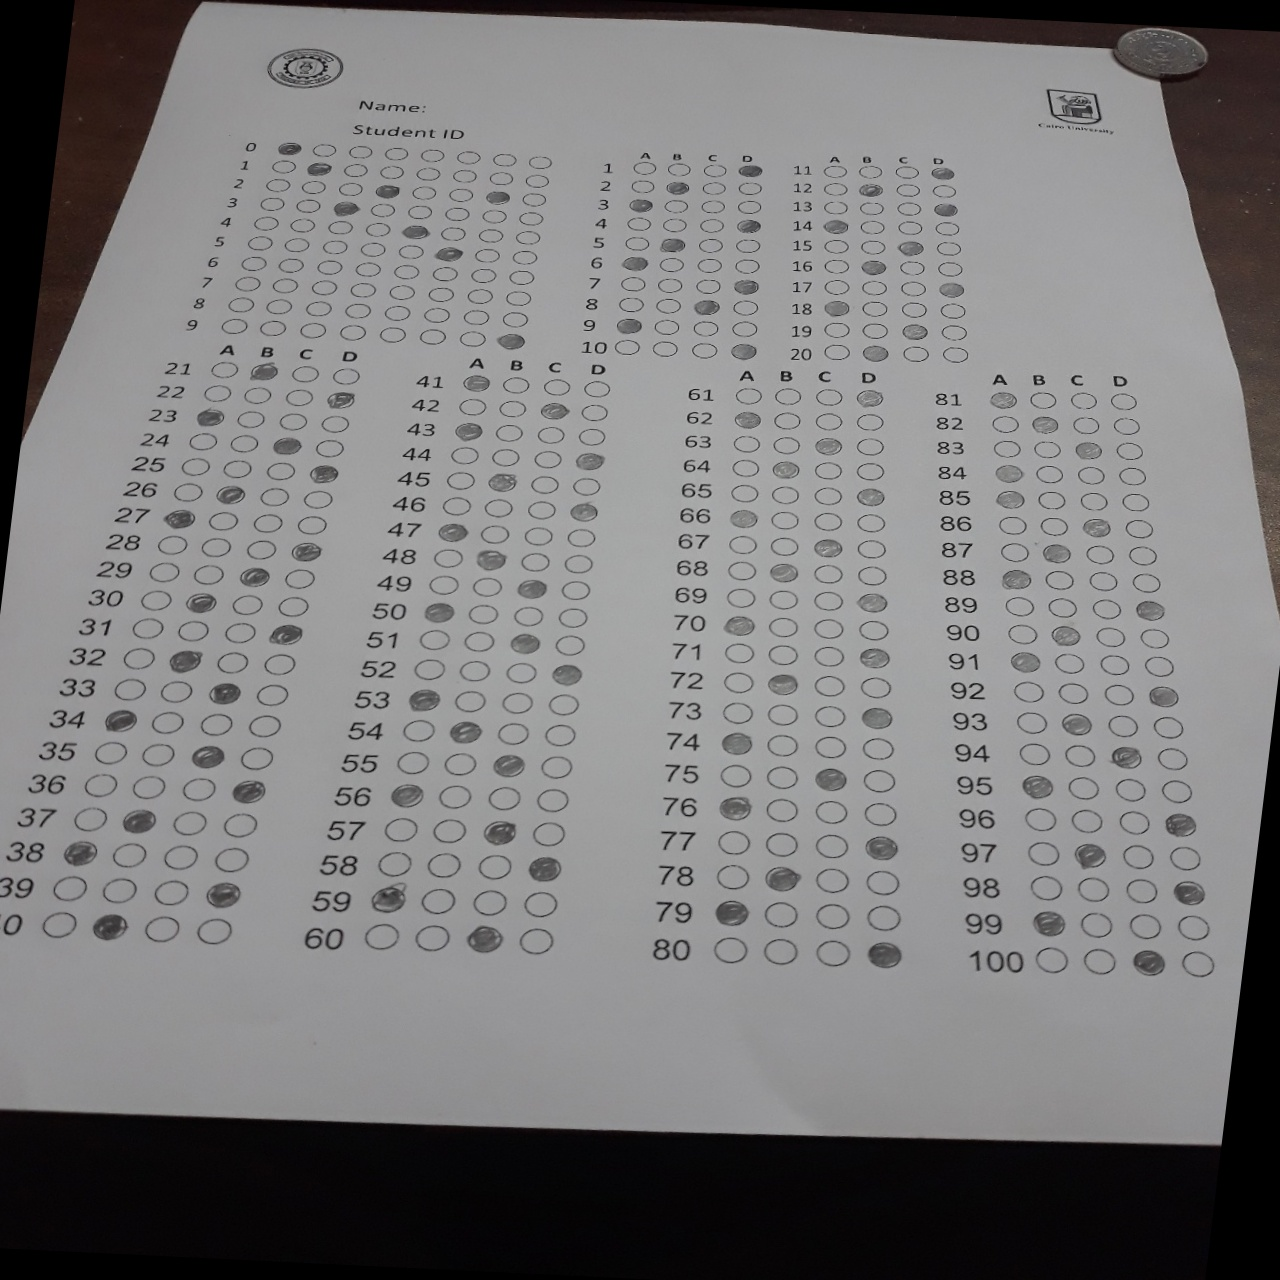not-c: (151, 876, 192, 908), (475, 849, 516, 881), (129, 769, 170, 801), (79, 768, 120, 799), (72, 803, 113, 835), (195, 912, 236, 944), (424, 847, 465, 879), (382, 813, 423, 845), (375, 847, 416, 879), (1096, 675, 1138, 706), (110, 840, 150, 872), (52, 871, 91, 903), (418, 885, 458, 917), (515, 925, 554, 956), (486, 781, 526, 812), (436, 779, 476, 811), (98, 874, 139, 905), (139, 912, 181, 942), (361, 920, 402, 951), (42, 907, 83, 938), (410, 922, 451, 953), (469, 886, 510, 917), (430, 812, 470, 843), (519, 888, 559, 919), (529, 817, 568, 847), (533, 784, 573, 813), (1024, 874, 1065, 903), (1021, 806, 1062, 835), (712, 862, 750, 891), (813, 937, 852, 966), (1121, 877, 1160, 905), (1067, 806, 1107, 835), (1064, 772, 1104, 801), (1060, 742, 1099, 770), (1014, 741, 1054, 769), (1094, 649, 1133, 678), (760, 937, 799, 965), (1114, 810, 1155, 837), (1085, 594, 1126, 621), (713, 933, 750, 962), (1175, 913, 1213, 941), (1179, 949, 1218, 978), (1030, 946, 1069, 974), (813, 901, 852, 930), (1121, 911, 1160, 938), (1080, 947, 1119, 974), (1073, 877, 1112, 904), (1019, 840, 1058, 867), (1101, 712, 1141, 738), (1010, 708, 1050, 735), (1005, 676, 1044, 703), (1048, 647, 1088, 674), (1041, 593, 1081, 620), (1000, 620, 1040, 647), (999, 591, 1039, 618), (1034, 512, 1074, 539), (1071, 461, 1111, 488), (1032, 458, 1071, 485), (1039, 565, 1080, 591), (762, 900, 799, 928), (865, 903, 903, 931), (1076, 913, 1115, 940), (1117, 842, 1156, 869), (1051, 679, 1090, 706), (1030, 485, 1069, 512), (1064, 411, 1103, 438), (863, 869, 901, 896), (996, 537, 1036, 563), (992, 510, 1032, 536), (1074, 486, 1114, 512), (1063, 386, 1103, 411), (441, 750, 478, 777), (399, 716, 436, 743), (456, 655, 493, 682), (1110, 774, 1149, 799), (509, 602, 547, 628), (250, 681, 290, 706), (542, 723, 578, 750), (546, 692, 583, 719), (499, 687, 536, 714), (416, 625, 452, 652), (554, 602, 591, 629), (245, 712, 282, 737), (537, 753, 574, 778), (493, 719, 531, 744), (463, 627, 501, 653), (230, 591, 268, 615), (175, 618, 213, 642), (181, 775, 219, 799), (169, 810, 207, 835), (211, 846, 250, 871), (162, 843, 200, 867), (516, 549, 554, 573), (530, 421, 568, 445), (396, 749, 433, 775), (410, 654, 447, 680), (552, 629, 588, 655), (1078, 542, 1118, 565), (520, 497, 560, 520), (488, 418, 527, 442), (136, 587, 173, 612), (220, 619, 258, 644), (120, 646, 157, 670), (157, 678, 195, 702), (91, 741, 129, 765), (504, 660, 542, 685), (1080, 567, 1121, 590), (1118, 516, 1153, 542), (274, 594, 313, 618), (261, 652, 300, 675), (220, 813, 259, 837), (468, 574, 506, 598), (474, 520, 512, 544), (428, 545, 467, 568), (478, 495, 517, 518), (447, 444, 485, 468), (488, 445, 526, 469), (526, 445, 565, 469), (571, 423, 610, 447), (765, 615, 801, 641), (810, 614, 845, 640), (810, 642, 845, 668), (812, 672, 847, 697), (855, 672, 890, 697), (812, 703, 847, 729), (813, 733, 849, 758), (860, 765, 896, 791), (1026, 386, 1062, 410), (145, 558, 182, 583), (450, 688, 486, 713), (559, 551, 595, 576), (720, 700, 756, 724), (721, 670, 757, 695), (762, 730, 798, 755), (864, 801, 900, 825), (213, 649, 251, 673), (111, 678, 149, 701), (138, 742, 176, 765), (147, 709, 184, 733), (200, 712, 238, 735), (237, 745, 274, 769), (425, 571, 463, 594), (556, 578, 593, 601), (443, 469, 481, 492), (1107, 387, 1142, 411), (1124, 544, 1159, 568), (1125, 570, 1160, 594), (1136, 624, 1171, 648), (1142, 653, 1177, 678), (1155, 745, 1190, 770), (1170, 845, 1205, 870), (1089, 625, 1130, 646), (764, 701, 799, 726), (859, 735, 894, 760), (764, 796, 799, 821), (812, 799, 847, 824), (816, 832, 851, 857), (716, 829, 751, 853), (813, 865, 849, 890), (525, 471, 564, 493), (1029, 436, 1065, 459), (987, 411, 1023, 435), (990, 437, 1027, 461), (519, 524, 556, 547), (855, 617, 891, 640), (1107, 414, 1141, 438), (1114, 465, 1148, 490), (1116, 490, 1150, 515), (1150, 714, 1184, 738), (127, 617, 164, 639), (465, 601, 503, 624), (563, 527, 600, 550), (565, 474, 602, 496), (1159, 778, 1194, 802), (764, 764, 799, 788), (719, 763, 754, 787), (764, 832, 799, 856), (1111, 440, 1145, 463), (186, 430, 220, 454), (437, 493, 475, 515), (205, 511, 241, 532), (810, 590, 846, 611), (179, 455, 215, 476), (219, 458, 254, 479), (263, 459, 298, 481), (199, 536, 234, 557), (810, 561, 845, 583), (767, 508, 802, 529), (300, 488, 336, 508), (294, 515, 331, 535), (248, 512, 285, 532), (279, 567, 315, 587), (810, 386, 846, 406), (852, 411, 888, 431), (808, 459, 844, 479), (767, 434, 803, 454), (241, 539, 275, 560), (319, 413, 350, 435), (278, 409, 309, 431), (282, 384, 314, 407), (244, 384, 275, 407), (233, 406, 265, 428), (172, 481, 207, 501), (256, 486, 291, 506), (156, 535, 191, 554), (190, 563, 225, 583), (495, 399, 530, 418), (537, 377, 572, 397), (580, 379, 615, 399), (771, 386, 806, 406), (853, 461, 888, 481), (724, 482, 760, 502), (809, 511, 844, 531), (765, 588, 801, 608), (724, 588, 760, 608), (724, 533, 760, 553), (719, 644, 754, 663), (767, 646, 802, 666), (579, 402, 615, 421), (811, 410, 847, 429), (727, 457, 763, 476), (204, 381, 234, 403), (731, 384, 765, 404), (765, 484, 799, 504), (724, 560, 758, 580), (765, 535, 799, 554), (329, 365, 361, 386), (313, 437, 345, 458), (229, 433, 260, 454), (457, 396, 492, 415), (852, 436, 887, 455), (727, 434, 762, 452), (767, 410, 802, 429), (810, 486, 845, 505), (853, 538, 888, 557), (856, 565, 891, 584), (350, 258, 383, 278), (287, 365, 320, 384), (497, 375, 531, 394), (855, 513, 888, 532), (342, 301, 374, 321), (821, 278, 853, 297), (658, 215, 690, 233), (386, 282, 418, 301), (363, 217, 394, 237), (897, 257, 928, 275), (818, 159, 850, 178), (857, 237, 888, 256), (822, 342, 853, 361), (694, 275, 726, 294), (653, 275, 685, 294), (425, 284, 457, 302), (403, 202, 435, 220), (376, 325, 408, 343), (347, 279, 379, 298), (358, 238, 389, 257), (258, 318, 290, 336), (731, 236, 764, 253), (508, 247, 540, 265), (819, 237, 850, 256), (858, 277, 888, 295), (735, 196, 765, 215), (697, 215, 728, 233), (692, 318, 722, 336), (649, 338, 680, 356), (484, 168, 515, 186), (338, 322, 368, 341), (926, 183, 958, 200), (891, 162, 922, 179), (855, 161, 886, 178), (898, 278, 930, 295), (856, 216, 887, 233), (862, 321, 893, 339), (728, 319, 760, 336), (728, 298, 760, 315), (733, 178, 764, 196), (696, 161, 728, 178), (652, 319, 683, 336), (660, 196, 692, 213), (626, 175, 658, 192), (612, 336, 644, 354), (515, 210, 546, 227), (512, 229, 544, 246), (519, 170, 551, 188), (420, 305, 451, 322), (440, 204, 471, 222), (394, 243, 425, 260), (380, 143, 411, 161), (343, 142, 375, 159), (338, 159, 369, 177), (319, 238, 350, 256), (307, 279, 339, 297), (302, 299, 334, 316), (263, 297, 294, 314), (268, 275, 300, 293), (285, 216, 316, 233), (292, 196, 324, 213), (298, 177, 329, 195), (307, 141, 339, 158), (407, 184, 440, 200), (821, 179, 851, 197), (819, 197, 850, 215), (819, 256, 850, 273), (858, 299, 888, 316), (940, 324, 971, 341), (941, 343, 972, 361), (903, 343, 933, 361), (731, 257, 762, 274), (697, 197, 728, 215), (654, 295, 685, 313), (695, 234, 726, 252), (695, 256, 726, 273), (690, 340, 721, 358), (656, 254, 687, 272), (628, 158, 659, 176), (622, 215, 653, 232), (615, 293, 646, 311), (498, 309, 529, 327), (506, 267, 537, 285), (518, 190, 549, 207), (469, 265, 499, 282), (459, 307, 490, 325), (444, 184, 475, 202), (382, 302, 413, 320), (315, 258, 346, 275), (281, 234, 312, 252), (263, 176, 293, 193), (930, 220, 961, 237), (893, 199, 925, 216), (891, 181, 922, 197), (897, 301, 928, 318), (935, 301, 967, 318), (697, 179, 729, 196), (663, 159, 695, 176), (617, 275, 648, 292), (501, 290, 532, 306), (489, 150, 520, 166), (475, 226, 506, 243), (417, 327, 449, 343), (415, 147, 447, 163), (414, 164, 445, 181), (367, 200, 399, 217), (297, 321, 328, 338), (256, 195, 287, 211), (218, 316, 250, 333), (209, 361, 240, 377), (825, 320, 855, 338), (525, 152, 554, 170), (390, 263, 420, 280), (933, 239, 964, 256), (894, 219, 925, 236), (856, 198, 886, 215), (622, 234, 653, 251), (481, 207, 511, 224), (471, 246, 502, 263), (463, 287, 493, 304), (456, 331, 486, 347), (430, 266, 461, 282), (437, 225, 468, 241), (448, 166, 478, 183), (452, 147, 483, 163), (275, 256, 306, 272), (245, 233, 275, 250), (239, 254, 270, 271), (233, 275, 264, 292), (333, 181, 365, 196), (248, 215, 280, 230), (224, 297, 256, 312), (934, 259, 964, 275), (376, 163, 406, 179), (324, 219, 354, 234), (268, 159, 298, 175)
taken-c: (89, 911, 130, 942), (464, 922, 505, 953), (186, 740, 227, 770), (227, 774, 268, 804), (98, 704, 139, 735), (165, 645, 206, 675), (60, 836, 100, 866), (205, 678, 245, 708), (179, 587, 219, 618), (117, 805, 158, 835), (859, 832, 899, 862), (852, 585, 892, 614), (765, 557, 805, 586), (370, 884, 410, 913), (205, 879, 245, 908), (1171, 878, 1210, 907), (1130, 948, 1169, 978), (720, 610, 758, 639), (713, 794, 753, 822), (856, 703, 896, 731), (710, 899, 748, 928), (811, 763, 849, 792), (1029, 908, 1068, 937), (865, 941, 904, 969), (716, 728, 755, 756), (809, 532, 847, 560), (1070, 842, 1110, 869), (763, 863, 803, 890), (855, 644, 892, 672), (762, 670, 799, 697), (161, 505, 197, 532), (244, 358, 280, 384), (268, 620, 304, 647), (324, 384, 359, 411), (237, 563, 273, 588), (286, 537, 322, 563), (212, 481, 248, 506), (268, 433, 305, 458), (306, 461, 342, 486), (1078, 515, 1116, 539), (986, 463, 1024, 486), (1006, 652, 1044, 675), (1019, 775, 1057, 798), (1162, 812, 1200, 836), (526, 856, 561, 881), (1057, 712, 1094, 736), (389, 782, 425, 806), (1130, 598, 1167, 621), (987, 486, 1024, 510), (1037, 540, 1075, 564), (1107, 743, 1144, 767), (481, 821, 515, 846), (1065, 438, 1104, 461), (1047, 622, 1085, 645), (982, 384, 1019, 408), (1024, 410, 1062, 433), (996, 567, 1034, 590), (1145, 685, 1183, 707), (573, 449, 606, 474), (493, 753, 527, 776), (855, 484, 887, 508), (855, 386, 887, 409), (459, 372, 492, 395), (451, 418, 484, 442), (485, 470, 518, 493), (475, 547, 508, 571), (515, 576, 547, 599), (509, 633, 542, 656), (550, 661, 583, 685), (1049, 622, 1085, 644), (568, 499, 602, 522), (731, 408, 763, 431), (408, 686, 440, 709), (193, 406, 229, 427), (769, 458, 802, 481), (812, 435, 845, 457), (538, 399, 571, 421), (436, 520, 469, 543), (422, 600, 455, 622), (449, 719, 482, 741), (728, 508, 760, 530), (733, 159, 763, 179), (275, 139, 306, 158), (482, 188, 512, 206), (495, 331, 525, 349), (625, 195, 655, 213), (735, 217, 765, 236), (857, 256, 887, 274), (930, 200, 960, 219), (372, 182, 401, 200), (397, 223, 427, 241), (614, 316, 644, 335), (692, 297, 721, 315), (821, 216, 850, 234), (821, 298, 850, 316), (302, 158, 333, 176), (434, 245, 464, 263), (620, 254, 651, 272), (729, 341, 760, 359), (857, 179, 887, 197), (930, 163, 960, 181), (937, 279, 967, 297), (331, 199, 360, 217), (658, 234, 687, 252), (662, 177, 692, 195), (894, 239, 924, 257), (900, 322, 930, 340), (731, 275, 760, 293), (862, 343, 890, 361)
